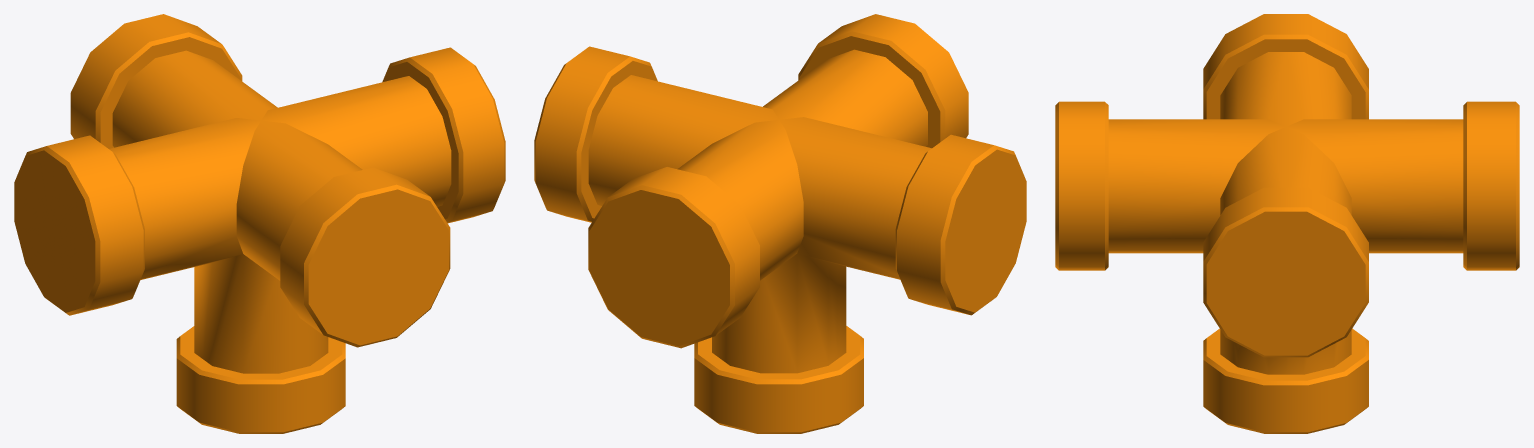
Rendered from Fix_4Axes_.fbx.
3 renders of one model, left to right at view 1: azimuth 30°, elevation 25°; view 2: azimuth 150°, elevation 25°; view 3: azimuth 270°, elevation 25°, orthographic. The views are drawn at different scales.
Visible parts, largest first — view 1: Fix_4Axes_; view 2: Fix_4Axes_; view 3: Fix_4Axes_.
Part boxes in pixels (x1,y1,x2,y2): Fix_4Axes_: [14, 14, 505, 433]; Fix_4Axes_: [534, 14, 1026, 433]; Fix_4Axes_: [1055, 14, 1519, 433].
Bounding box in the file's own units: 1.48 × 1.48 × 1.01.
